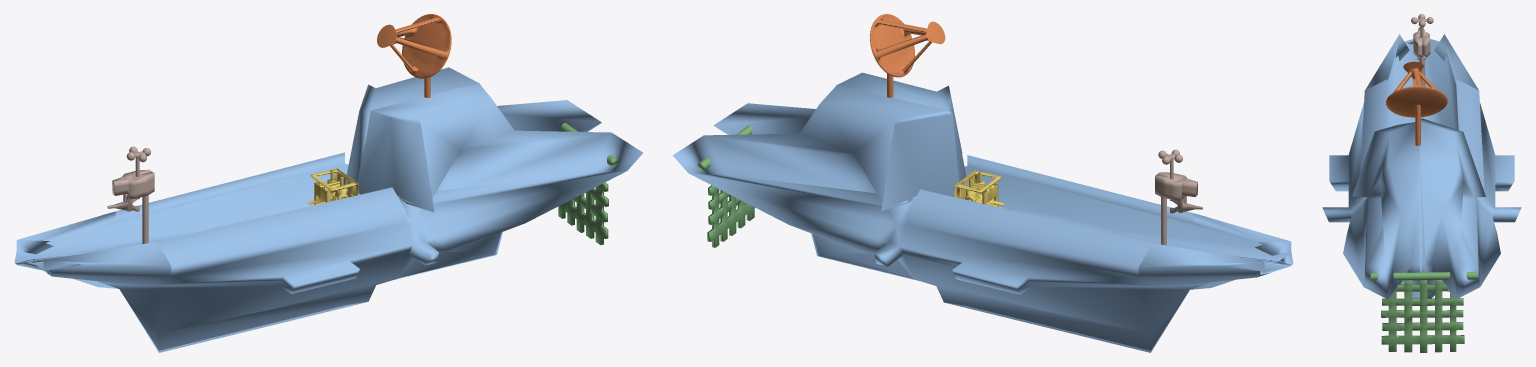
The model's file is Ship_Finished.fbx.
The picture shows the model from 3 angles, left to right: view 1: azimuth 30°, elevation 25°; view 2: azimuth 150°, elevation 25°; view 3: azimuth 270°, elevation 25°; orthographic projection. The views are drawn at different scales.
Visible parts, largest first — view 1: Ship_0010:pCube6, Satellite_Disk_GPS, fishing_net_0005:pCube2, group4, engine_0007:pCube6; view 2: Ship_0010:pCube6, Satellite_Disk_GPS, fishing_net_0005:pCube2, group4, engine_0007:pCube6; view 3: Ship_0010:pCube6, fishing_net_0005:pCube2, Satellite_Disk_GPS, group4.
Boxes of the visible parts, box(x1,y1,x2,y2) form: Ship_0010:pCube6: box(14, 67, 642, 352); Satellite_Disk_GPS: box(377, 14, 451, 97); fishing_net_0005:pCube2: box(558, 123, 617, 244); group4: box(107, 146, 154, 243); engine_0007:pCube6: box(307, 168, 358, 205); Ship_0010:pCube6: box(673, 72, 1293, 352); Satellite_Disk_GPS: box(870, 14, 945, 97); fishing_net_0005:pCube2: box(697, 125, 754, 247); group4: box(1155, 149, 1202, 245); engine_0007:pCube6: box(954, 170, 1009, 209); Ship_0010:pCube6: box(1322, 34, 1521, 299); fishing_net_0005:pCube2: box(1370, 271, 1477, 352); Satellite_Disk_GPS: box(1386, 61, 1447, 145); group4: box(1411, 14, 1433, 86).
Size of the model in its own units: 35.28 by 15.3 by 12.15.
